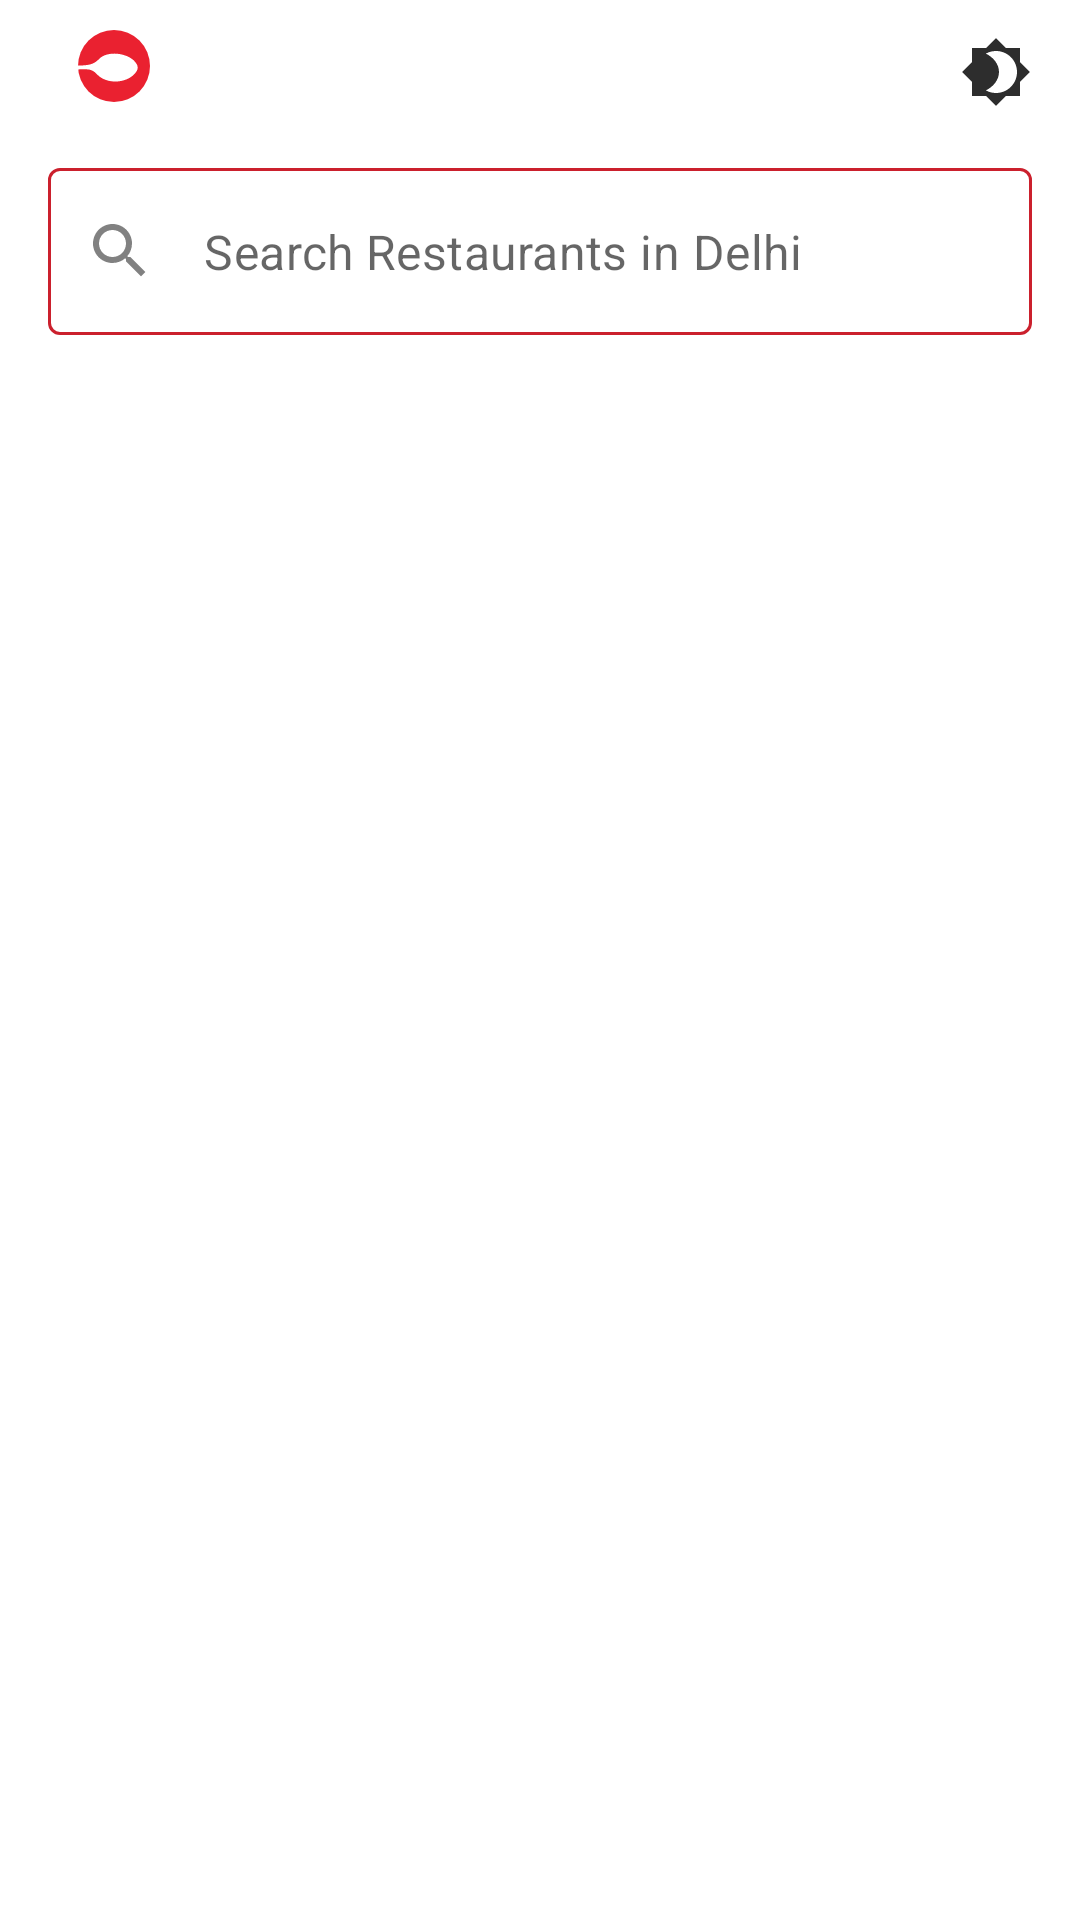

Point at icon controls on the screen. Image size 1080 × 1920, points as (x=x, y=y).
theme: (x=996, y=72)
